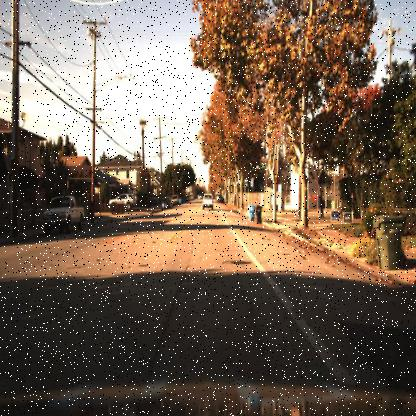car: (41, 194, 86, 238), (104, 191, 134, 209), (200, 190, 214, 212), (158, 194, 172, 212)
